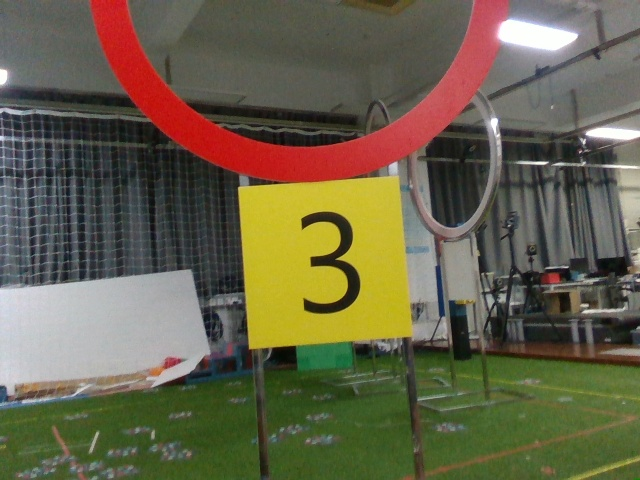target: (246, 189, 405, 338)
